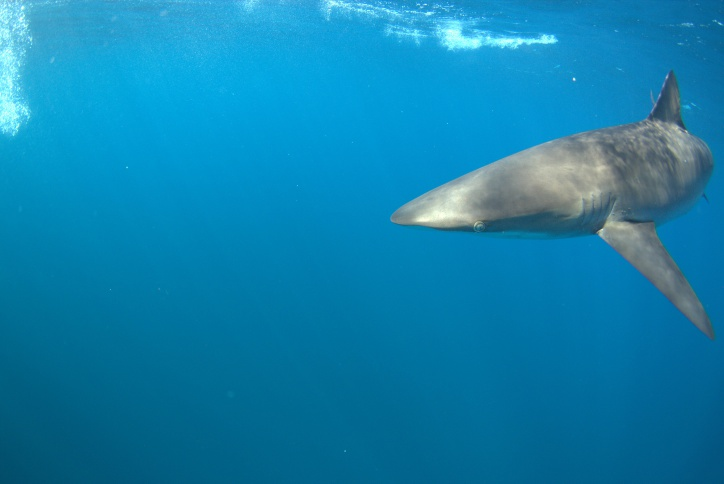Sedoso: (366, 64, 722, 342)
